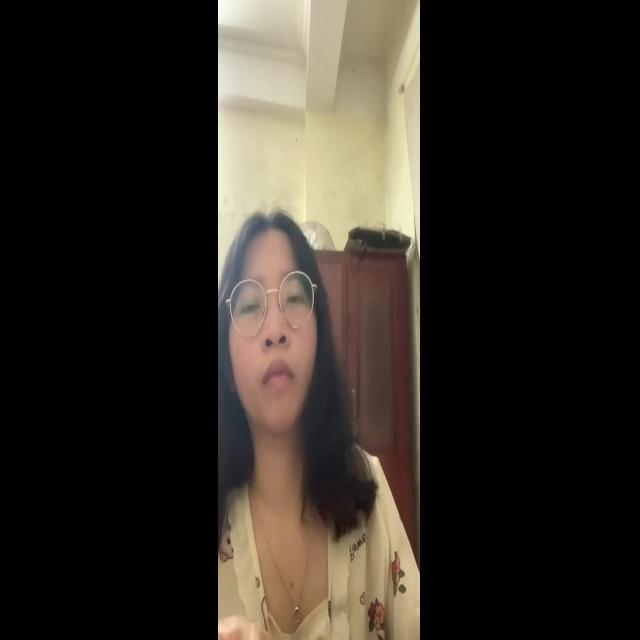student: (222, 213, 364, 614)
